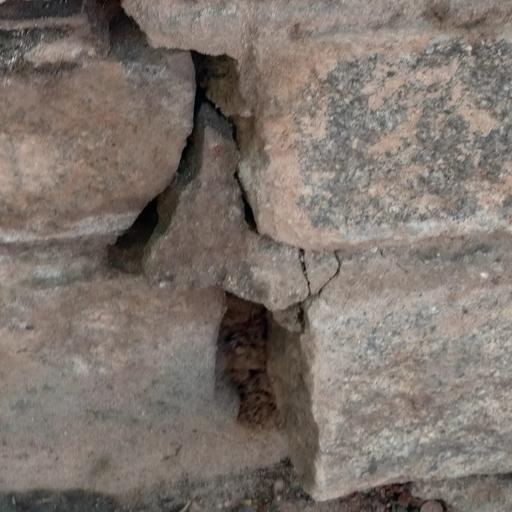major_crack: (85, 0, 359, 493)
